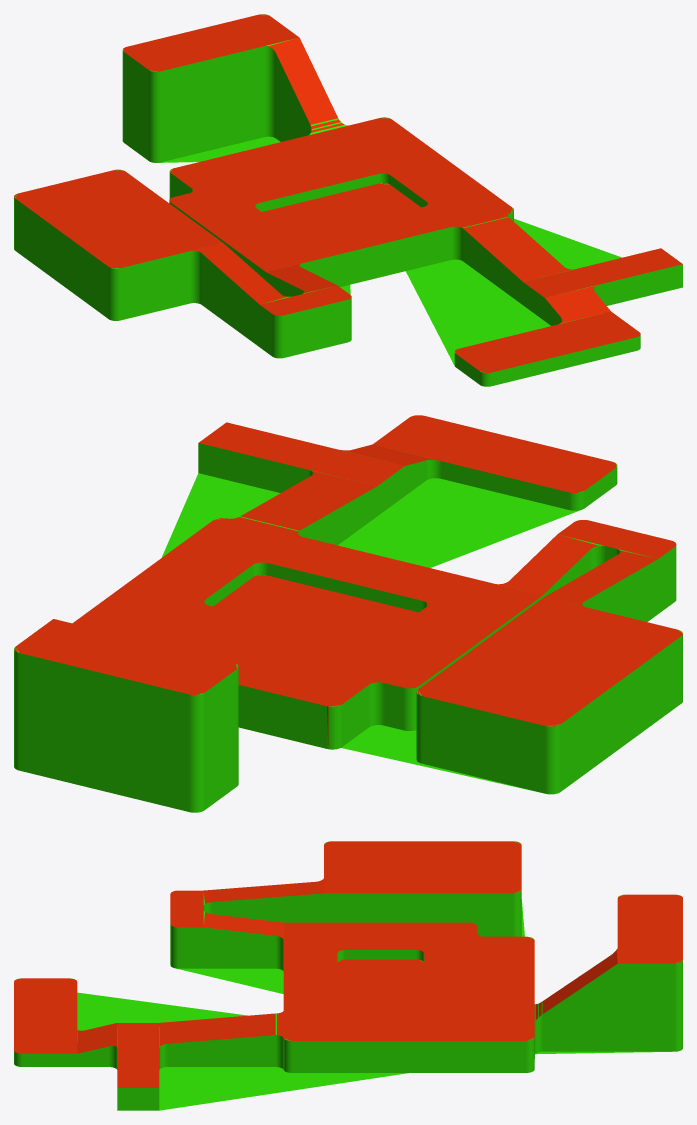
The model's file is CuevaB32.fbx.
3 views of the same model, one above another, from view 1: azimuth 30°, elevation 25°; view 2: azimuth 150°, elevation 25°; view 3: azimuth 270°, elevation 25° (orthographic). The views are drawn at different scales.
Visible parts, largest first — view 1: Cube.004; view 2: Cube.004; view 3: Cube.004.
Part boxes in pixels (bbox=[...]): Cube.004: bbox=[14, 14, 682, 386]; Cube.004: bbox=[14, 415, 682, 812]; Cube.004: bbox=[14, 841, 682, 1110].
Bounding box in the file's own units: 21.25 × 27.47 × 3.99.
